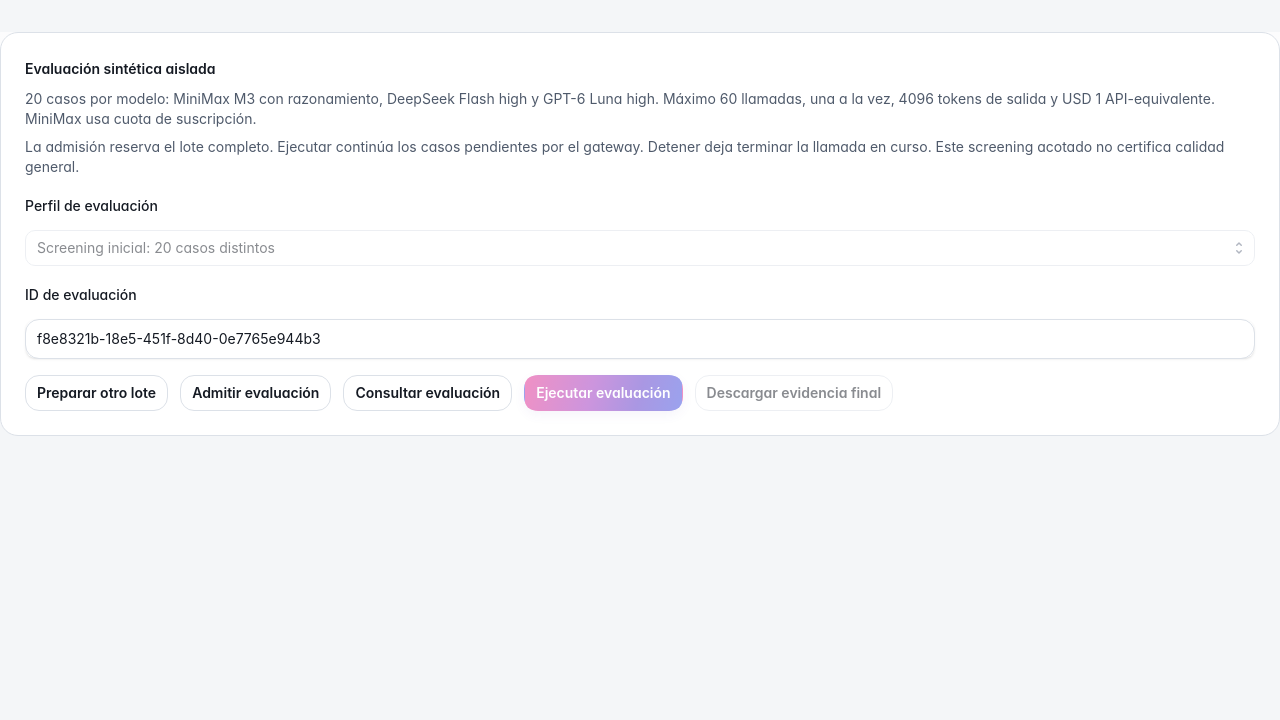
Test: isolated evaluation controls › consults a saved cache batch and restores its server-owned profile
Click the button "Consultar evaluación".
click(428, 393)  # box [343,375,512,411]
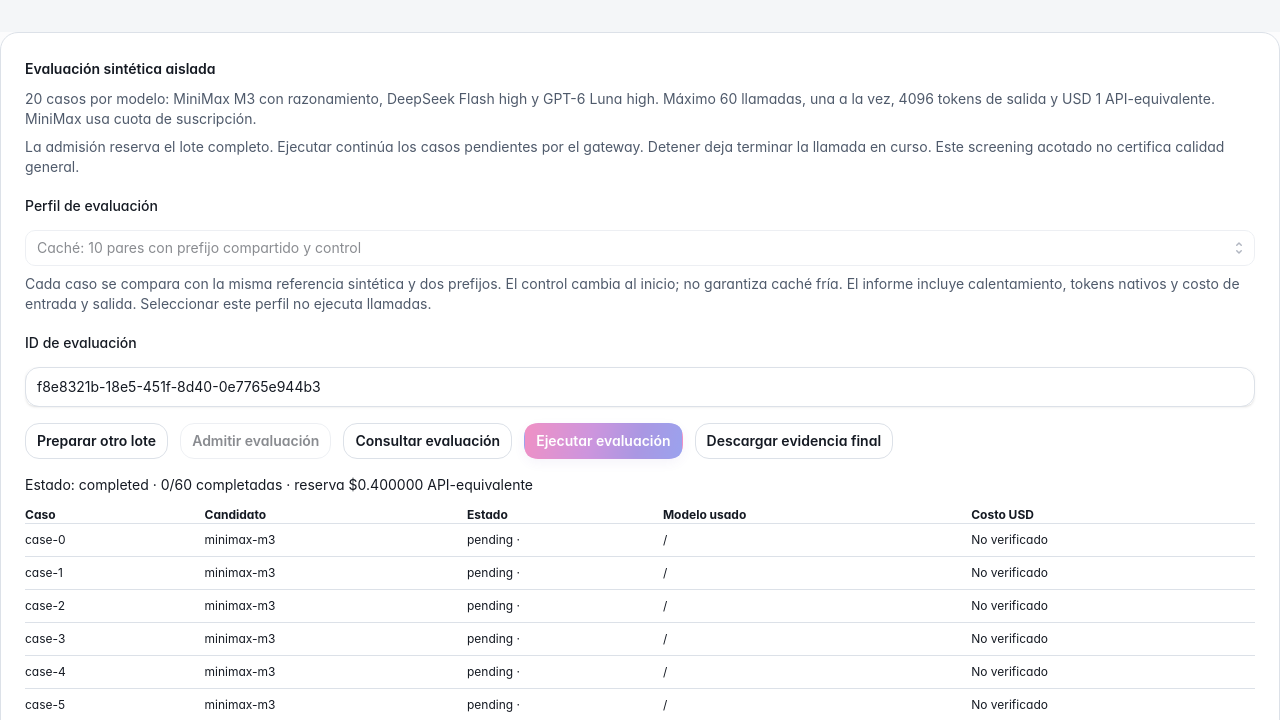
Expected: the message "Estado: completed · 0/60 completadas · reserva $0.400000 API-equivalente" is shown, [25,476,533,493]
Expected: the dropdown labelled "Perfil de evaluación" shows "Caché: 10 pares con prefijo compartido y control", [25,230,1255,266]
